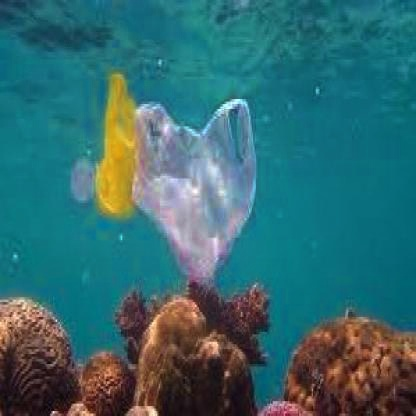pbag: (129, 77, 259, 287), (90, 64, 148, 228)
